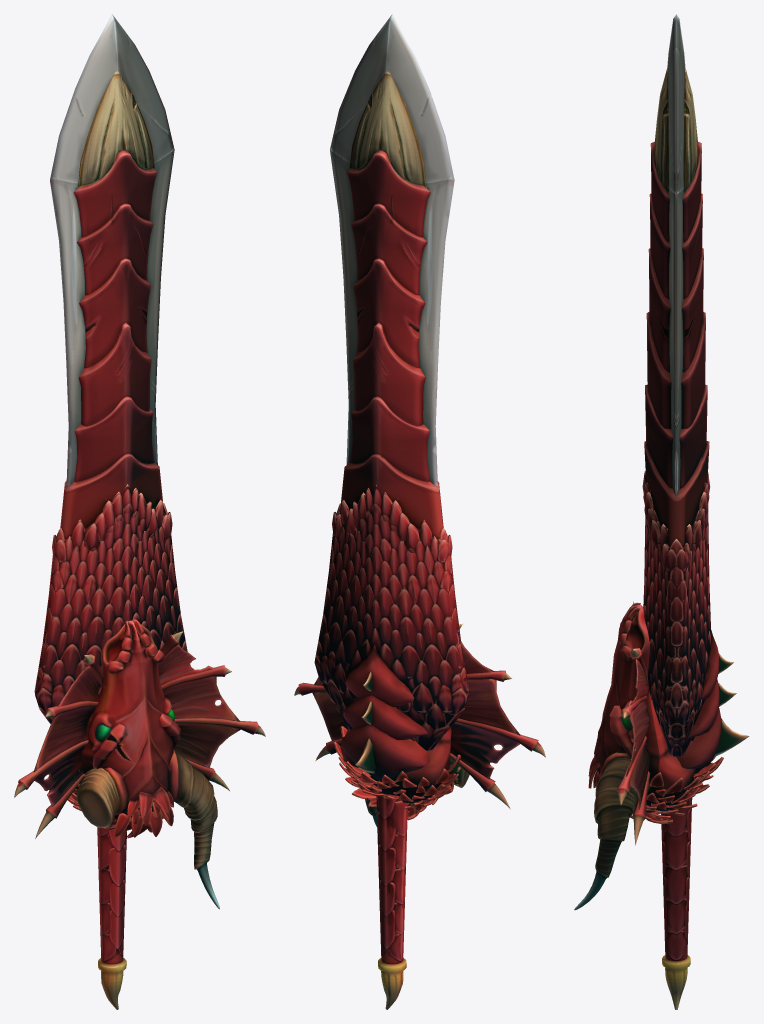
Rendered from sm_sword_72.gltf.
The picture shows the model from 3 angles, left to right: view 1: azimuth 30°, elevation 25°; view 2: azimuth 150°, elevation 25°; view 3: azimuth 270°, elevation 25°; orthographic projection.
Visible parts, largest first — view 1: sm_sword_72; view 2: sm_sword_72; view 3: sm_sword_72.
Boxes of the visible parts, left/top/right/bottom form: sm_sword_72: left=14, top=14, right=265, bottom=1009; sm_sword_72: left=294, top=14, right=545, bottom=1009; sm_sword_72: left=574, top=14, right=749, bottom=1009.
Size of the model in its own units: 0.3945 by 1.49 by 0.239.
1 material, 1 textured.
